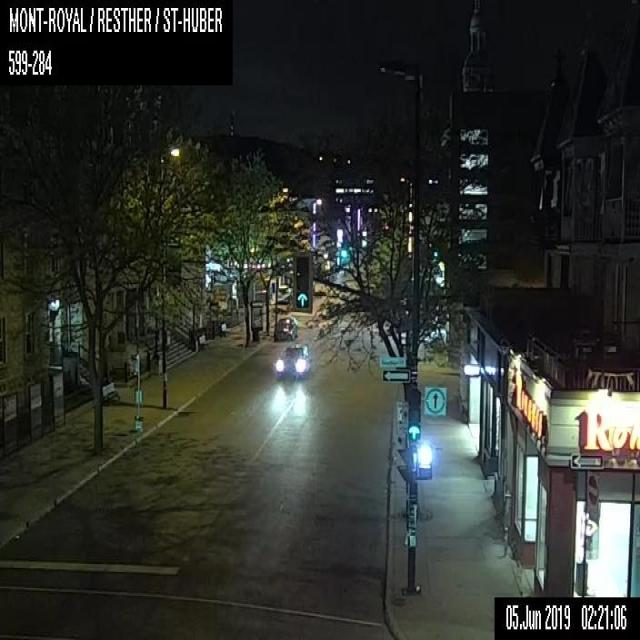vehicle: (276, 343, 310, 378), (273, 316, 297, 340)
